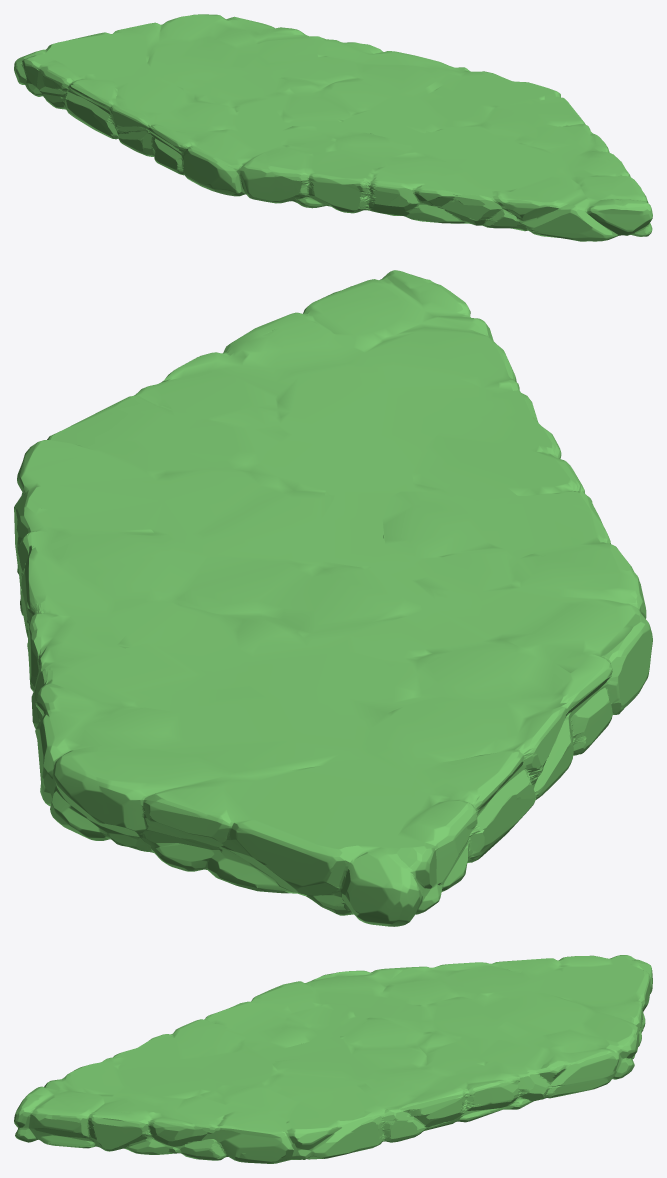
3 views of the same model, one above another, from view 1: azimuth 30°, elevation 25°; view 2: azimuth 150°, elevation 25°; view 3: azimuth 270°, elevation 25° (orthographic). The views are drawn at different scales.
Visible parts, largest first — view 1: Mesh_27_LOD0; view 2: Mesh_27_LOD0; view 3: Mesh_27_LOD0.
Boxes of the visible parts, x1,y1,x2,y2 form: Mesh_27_LOD0: [14, 14, 652, 241]; Mesh_27_LOD0: [14, 270, 652, 926]; Mesh_27_LOD0: [14, 955, 652, 1163].
Size of what is drawn, in the model's own units: 6407 by 646 by 9498.
